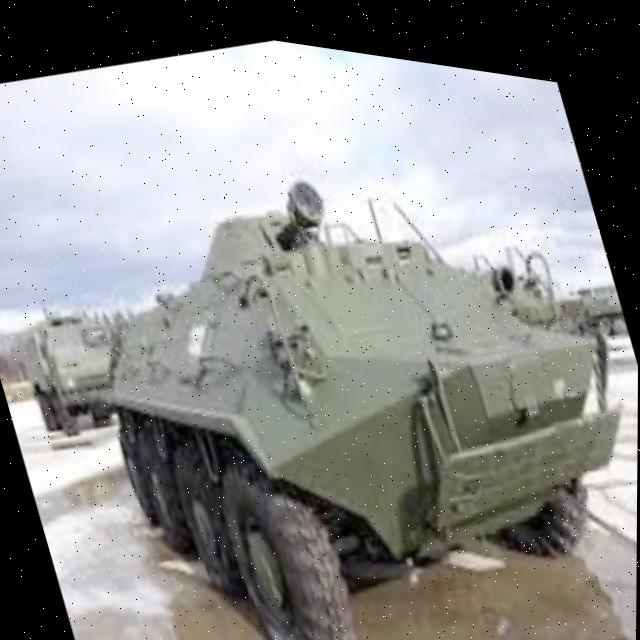MIL_APC: (30, 76, 640, 640)
